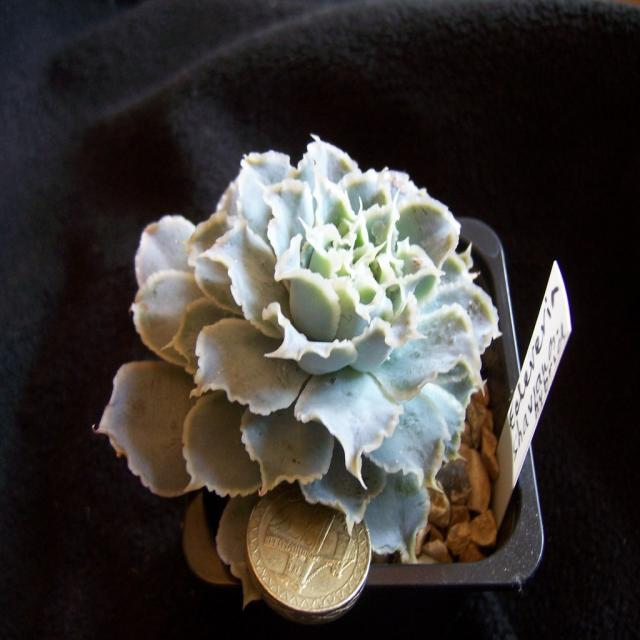Coin: (235, 489, 384, 621)
